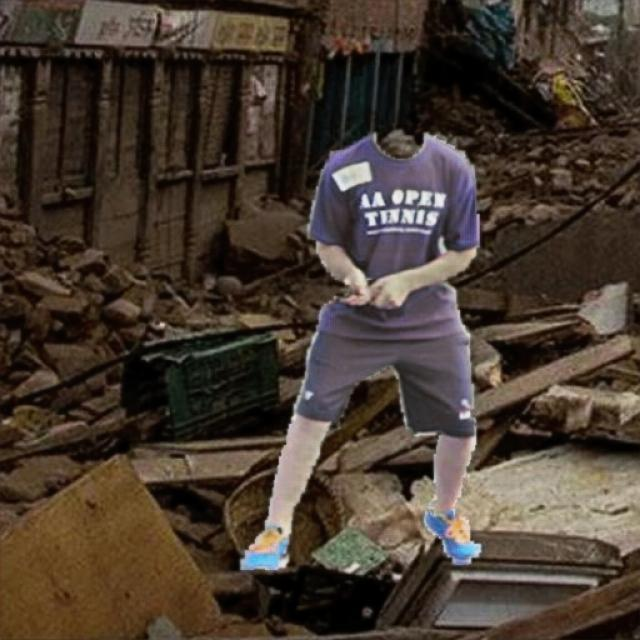Person in Rubble: (240, 132, 480, 568)
